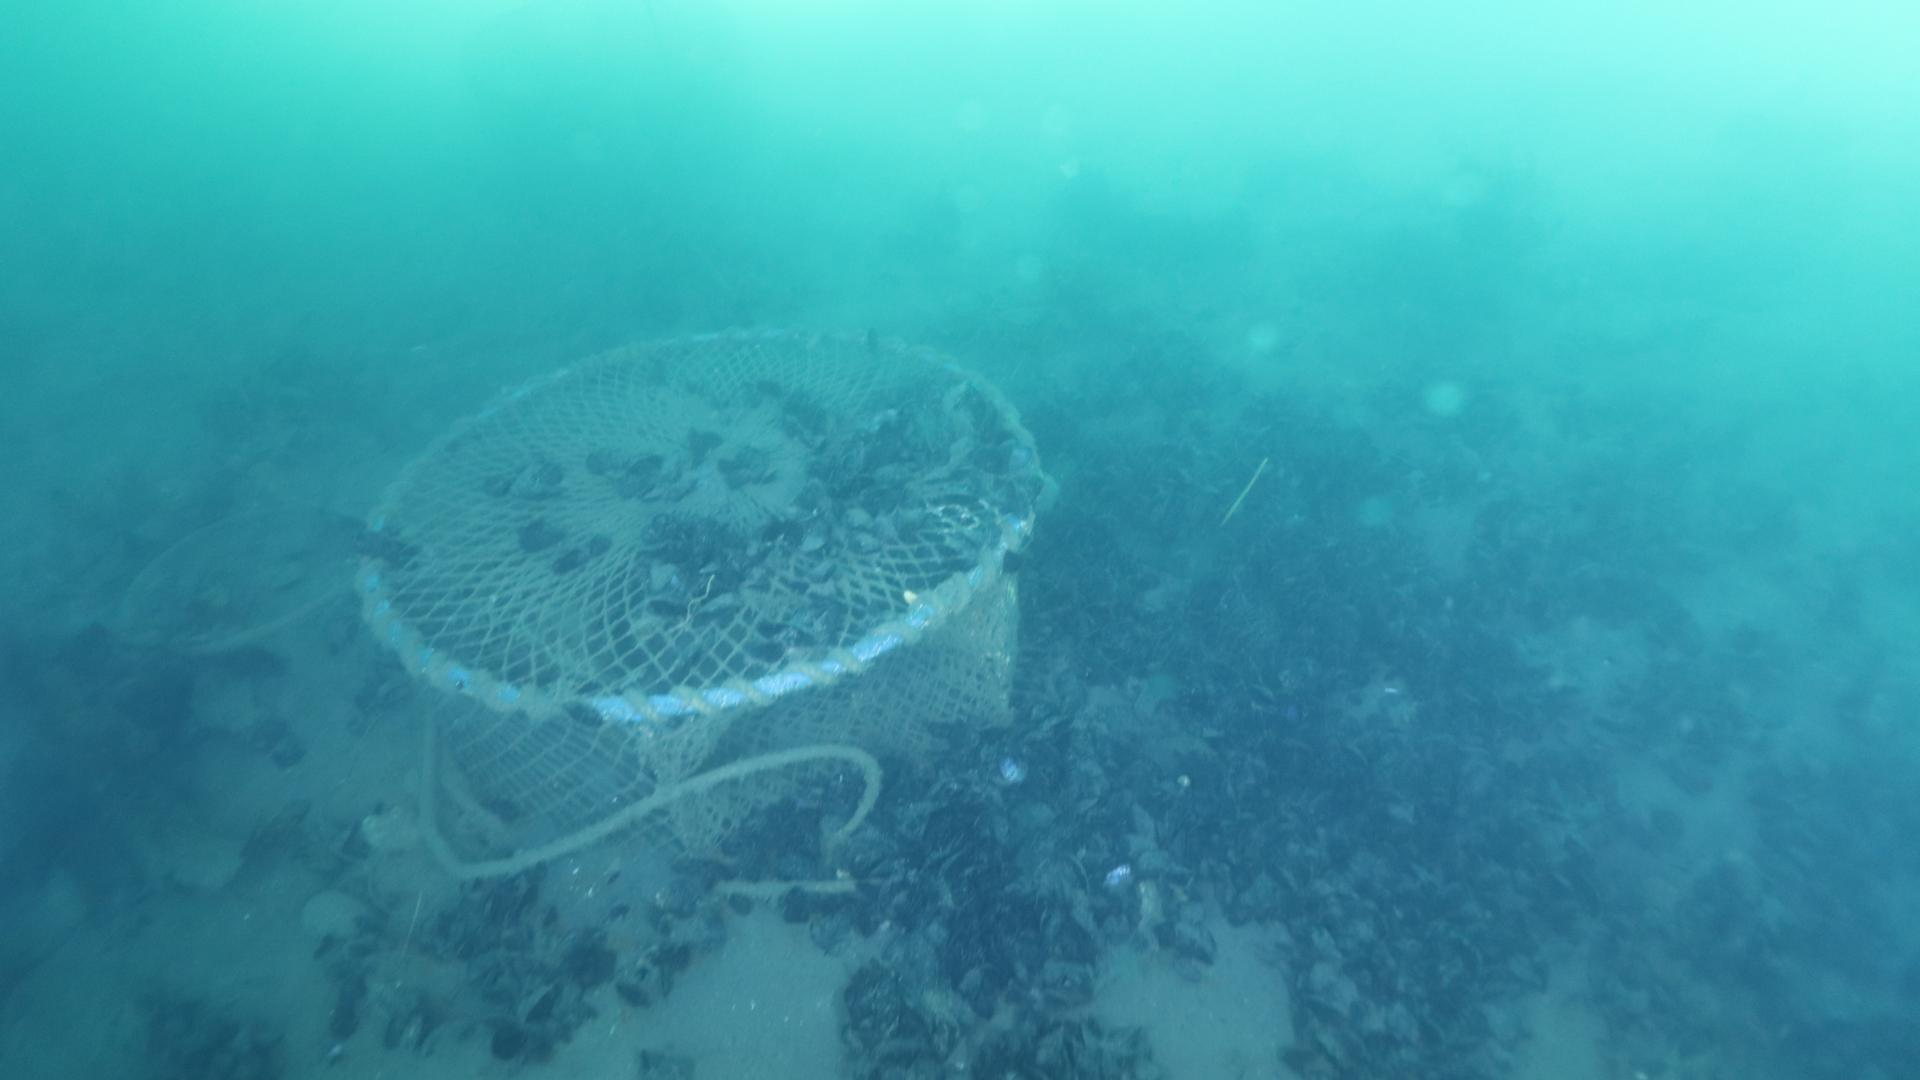circular fish trap: (338, 316, 1058, 907)
rope: (417, 675, 884, 881)
